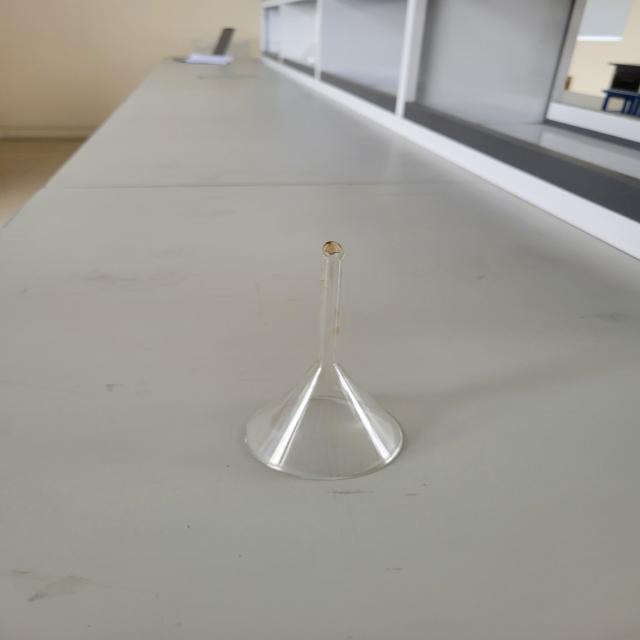Funnel: (195, 192, 477, 508)
